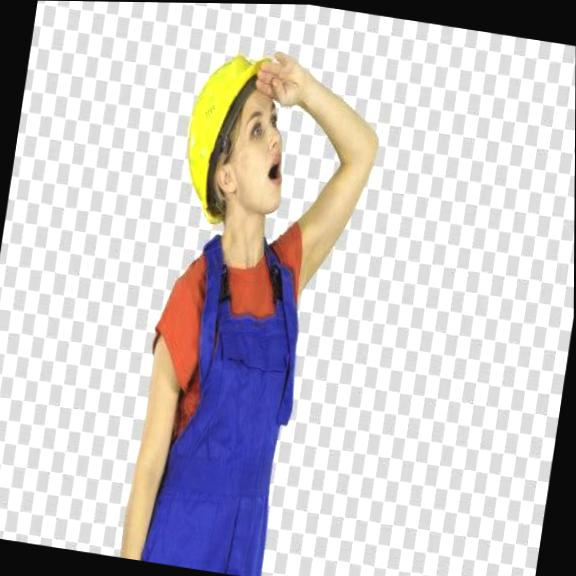no_safety_vest: (123, 215, 313, 539)
